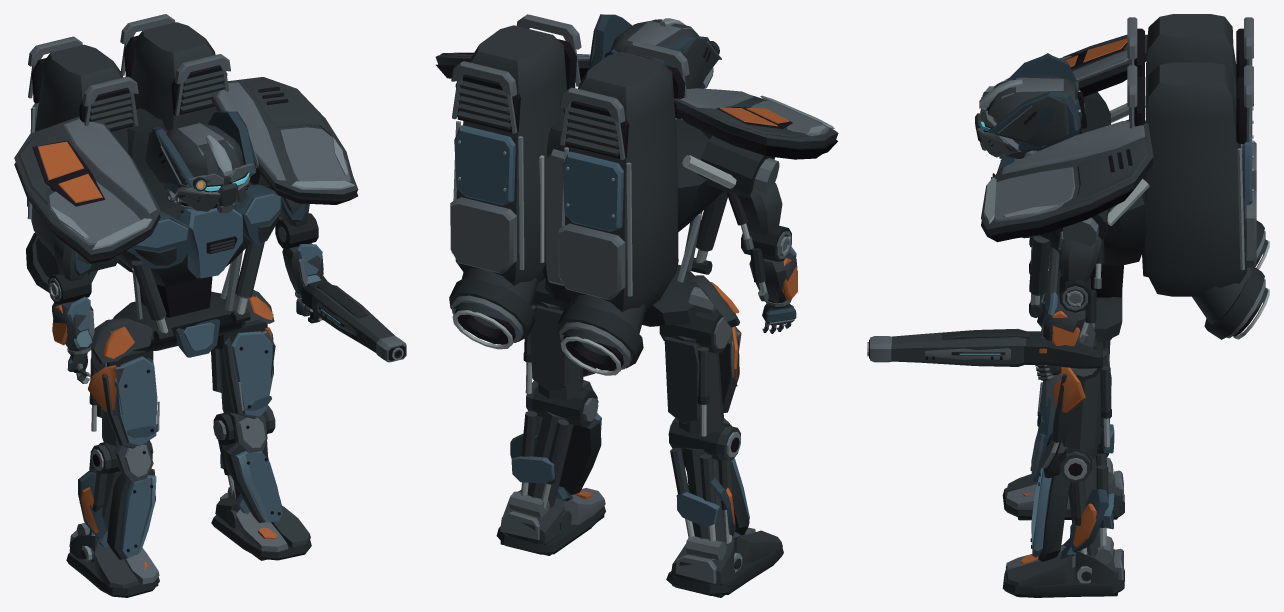
File: m07-cangyan-v6.glb
3 renders of one model, left to right at view 1: azimuth 30°, elevation 25°; view 2: azimuth 150°, elevation 25°; view 3: azimuth 270°, elevation 25°, orthographic. The views are drawn at different scales.
Visible parts, largest first — view 1: M07_Upper_armor, M07_Shin_L_armor, M07_Thigh_L_armor, M07_Shin_R_armor, M07_Thigh_R_armor, M07_Rifle_armor, M07_Foot_R_armor, M07_Foot_L_armor; view 2: M07_Upper_armor, M07_Shin_R_armor, M07_Shin_L_armor, M07_Thigh_L_armor, M07_Foot_L_armor, M07_Foot_R_armor, M07_Thigh_R_armor; view 3: M07_Upper_armor, M07_Shin_R_armor, M07_Rifle_armor, M07_Thigh_R_armor, M07_Foot_R_armor, M07_Foot_L_armor, M07_Shin_L_armor.
Part boxes in pixels (<box>): M07_Upper_armor: <box>14,14,358,383</box>; M07_Shin_L_armor: <box>77,440,156,559</box>; M07_Thigh_L_armor: <box>88,350,159,448</box>; M07_Shin_R_armor: <box>213,405,282,522</box>; M07_Thigh_R_armor: <box>211,319,275,418</box>; M07_Rifle_armor: <box>296,276,406,362</box>; M07_Foot_R_armor: <box>211,493,311,560</box>; M07_Foot_L_armor: <box>66,530,159,597</box>; M07_Upper_armor: <box>435,14,838,375</box>; M07_Shin_R_armor: <box>509,380,601,517</box>; M07_Shin_L_armor: <box>668,418,749,560</box>; M07_Thigh_L_armor: <box>659,309,741,436</box>; M07_Foot_L_armor: <box>666,527,783,597</box>; M07_Foot_R_armor: <box>496,486,605,555</box>; M07_Thigh_R_armor: <box>523,278,596,399</box>; M07_Upper_armor: <box>975,14,1269,347</box>; M07_Shin_R_armor: <box>1030,440,1114,564</box>; M07_Rifle_armor: <box>867,328,1101,380</box>; M07_Thigh_R_armor: <box>1037,338,1111,449</box>; M07_Foot_R_armor: <box>1002,538,1124,597</box>; M07_Foot_L_armor: <box>1002,470,1124,520</box>; M07_Shin_L_armor: <box>1030,424,1114,485</box>.
Bounding box in the file's own units: 11.12 × 16.57 × 12.14.
